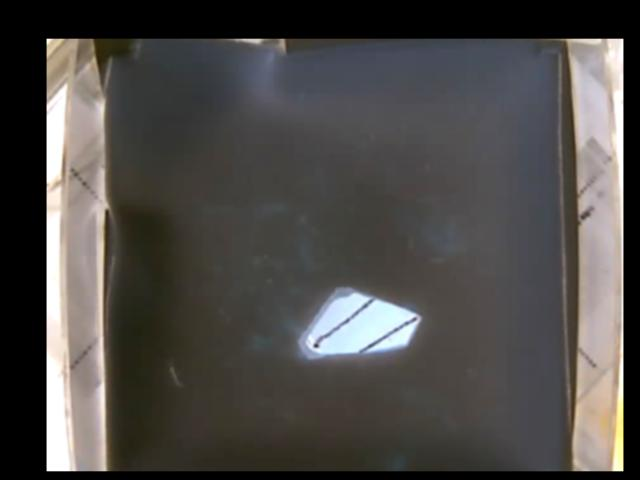China: (297, 284, 422, 360)
